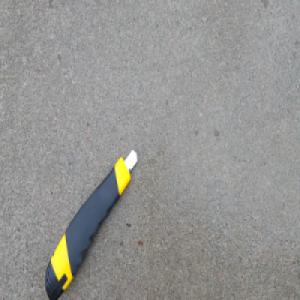Cutter: (43, 146, 138, 292)
